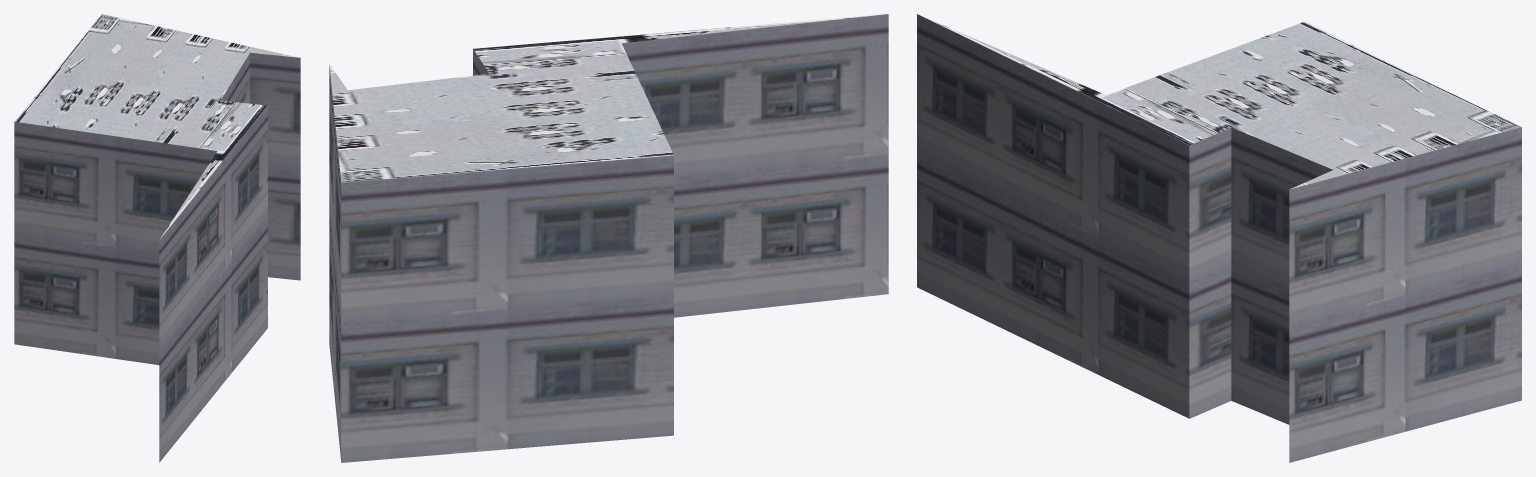
Rendered from ResTex__1447.fbx.
3 views of the same model, side by side, from view 1: azimuth 30°, elevation 25°; view 2: azimuth 150°, elevation 25°; view 3: azimuth 270°, elevation 25° (orthographic). The views are drawn at different scales.
Visible parts, largest first — view 1: CityEngineMaterial_1_m, CityEngineMaterial_4_m; view 2: CityEngineMaterial_1_m, CityEngineMaterial_4_m; view 3: CityEngineMaterial_1_m, CityEngineMaterial_4_m.
Part boxes in pixels (x1=…): CityEngineMaterial_1_m: x1=14, y1=52, x2=300, y2=462; CityEngineMaterial_4_m: x1=14, y1=14, x2=298, y2=238; CityEngineMaterial_1_m: x1=329, y1=14, x2=888, y2=462; CityEngineMaterial_4_m: x1=329, y1=14, x2=883, y2=182; CityEngineMaterial_1_m: x1=917, y1=14, x2=1521, y2=462; CityEngineMaterial_4_m: x1=922, y1=16, x2=1521, y2=189.
Bounding box in the file's own units: 8.26 × 6 × 12.03.
Materials: 2 (2 with a texture image).
